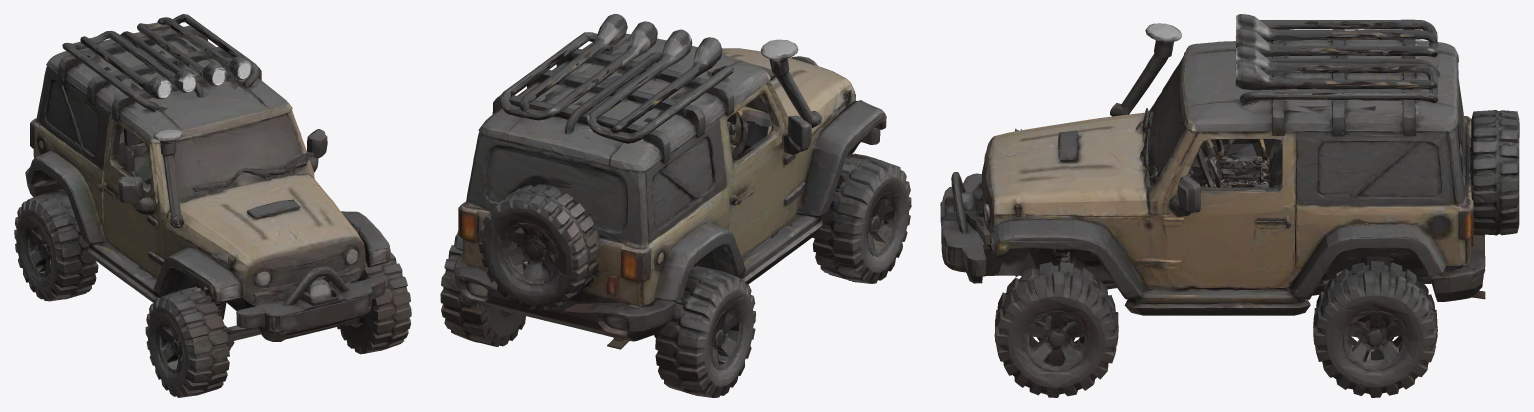
File: jeep.glb
3 views of the same model, side by side, from view 1: azimuth 30°, elevation 25°; view 2: azimuth 150°, elevation 25°; view 3: azimuth 270°, elevation 25° (orthographic). The views are drawn at different scales.
Parts seen in each view (by area): view 1: body, wheel_FR, wheel_RR, wheel_FL; view 2: body, wheel_RR, wheel_FR, wheel_RL; view 3: body, wheel_FL, wheel_RL.
Boxes of the visible parts, left/top/right/bottom form: body: left=19, top=14, right=409, bottom=351; wheel_FR: left=145, top=297, right=229, bottom=397; wheel_RR: left=14, top=200, right=98, bottom=301; wheel_FL: left=337, top=258, right=411, bottom=354; body: left=444, top=14, right=905, bottom=349; wheel_RR: left=655, top=278, right=755, bottom=397; wheel_FR: left=812, top=165, right=911, bottom=283; wheel_RL: left=440, top=240, right=525, bottom=346; body: left=940, top=14, right=1519, bottom=323; wheel_FL: left=994, top=266, right=1118, bottom=397; wheel_RL: left=1313, top=283, right=1437, bottom=397.
Size of the model in its own units: 2.25 by 2.38 by 4.2.
1 material, 1 textured.
